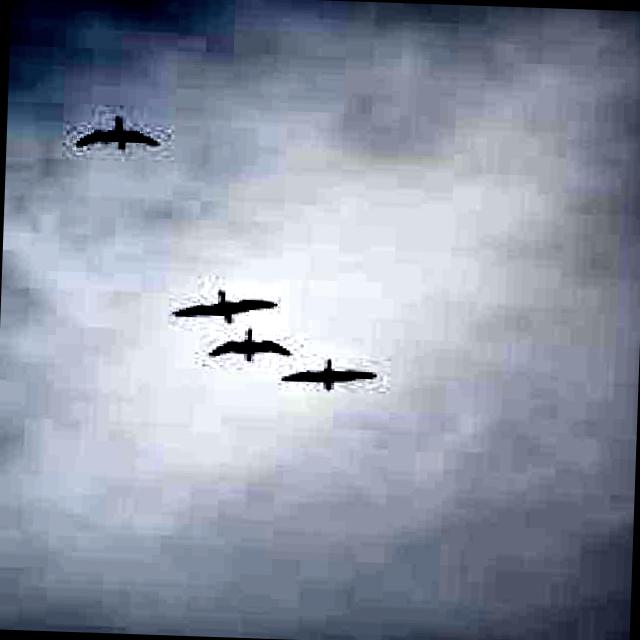bird: (196, 323, 320, 385), (46, 106, 177, 154), (161, 276, 280, 326), (280, 352, 376, 392)
